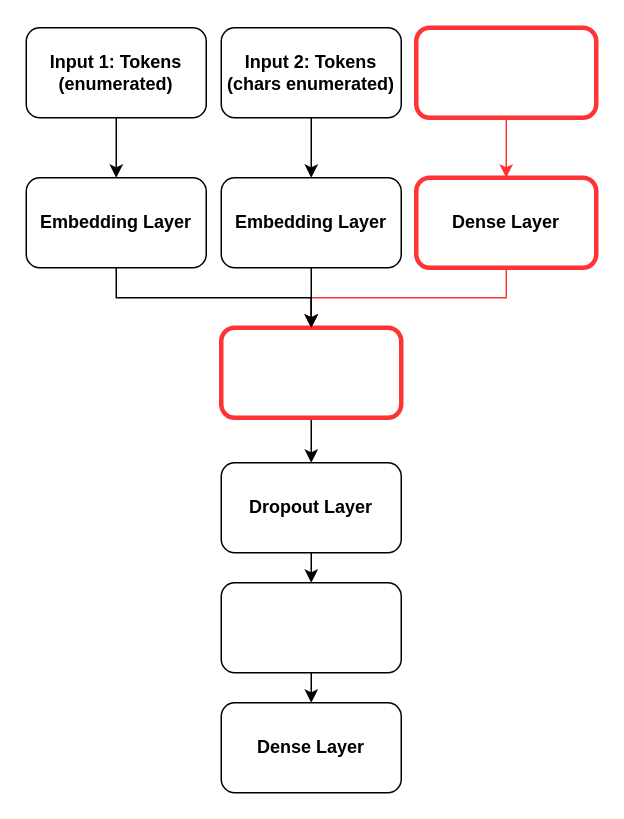
This 624x819 diagram has some shape labels left out. The shapes that lost their labels are listed below. From the top down, each one's centre as x and y in pixels, then its label:
At (505,72): "Input 3: Features".
At (310,372): "Concatenate Layer".
At (310,627): "bi-LSTM Layer".
